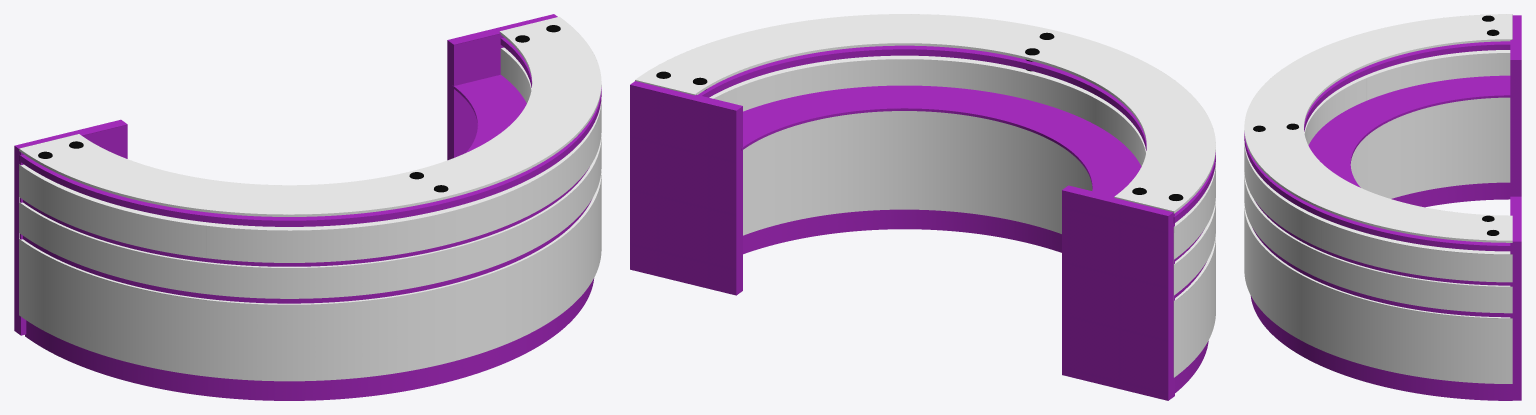
The model's file is studio fbx.fbx.
The picture shows the model from 3 angles, left to right: view 1: azimuth 30°, elevation 25°; view 2: azimuth 150°, elevation 25°; view 3: azimuth 270°, elevation 25°; orthographic projection. The views are drawn at different scales.
Parts seen in each view (by area): view 1: Sweep_5, Sweep_3, Sweep_2, Sweep, Cube_1, Sweep_4, Cube; view 2: Sweep_5, Sweep_3, Cube_1, Cube, Sweep_4, Sweep_2, Sweep; view 3: Sweep_5, Sweep_3, Sweep_4, Sweep_2, Sweep, Cube_1, Cube.
Part boxes in pixels (left/top/right/bottom): Sweep_5: left=19, top=47, right=601, bottom=381; Sweep_3: left=19, top=16, right=601, bottom=216; Sweep_2: left=25, top=278, right=594, bottom=400; Sweep: left=19, top=37, right=601, bottom=226; Cube_1: left=447, top=14, right=557, bottom=160; Sweep_4: left=452, top=74, right=526, bottom=152; Cube: left=14, top=119, right=127, bottom=335; Sweep_5: left=709, top=55, right=1215, bottom=377; Sweep_3: left=635, top=14, right=1215, bottom=213; Cube_1: left=630, top=81, right=742, bottom=295; Cube: left=1062, top=185, right=1174, bottom=400; Sweep_4: left=742, top=85, right=1141, bottom=196; Sweep_2: left=743, top=209, right=1208, bottom=392; Sweep: left=698, top=45, right=1215, bottom=223; Sweep_5: left=1244, top=50, right=1512, bottom=383; Sweep_3: left=1244, top=14, right=1512, bottom=242; Sweep_4: left=1308, top=75, right=1510, bottom=187; Sweep_2: left=1250, top=182, right=1512, bottom=400; Sweep: left=1244, top=41, right=1512, bottom=251; Cube_1: left=1510, top=196, right=1521, bottom=400; Cube: left=1510, top=15, right=1521, bottom=196.
Size of the model in its own units: 450 by 152 by 233.
Materials: 1 (1 with a texture image).
